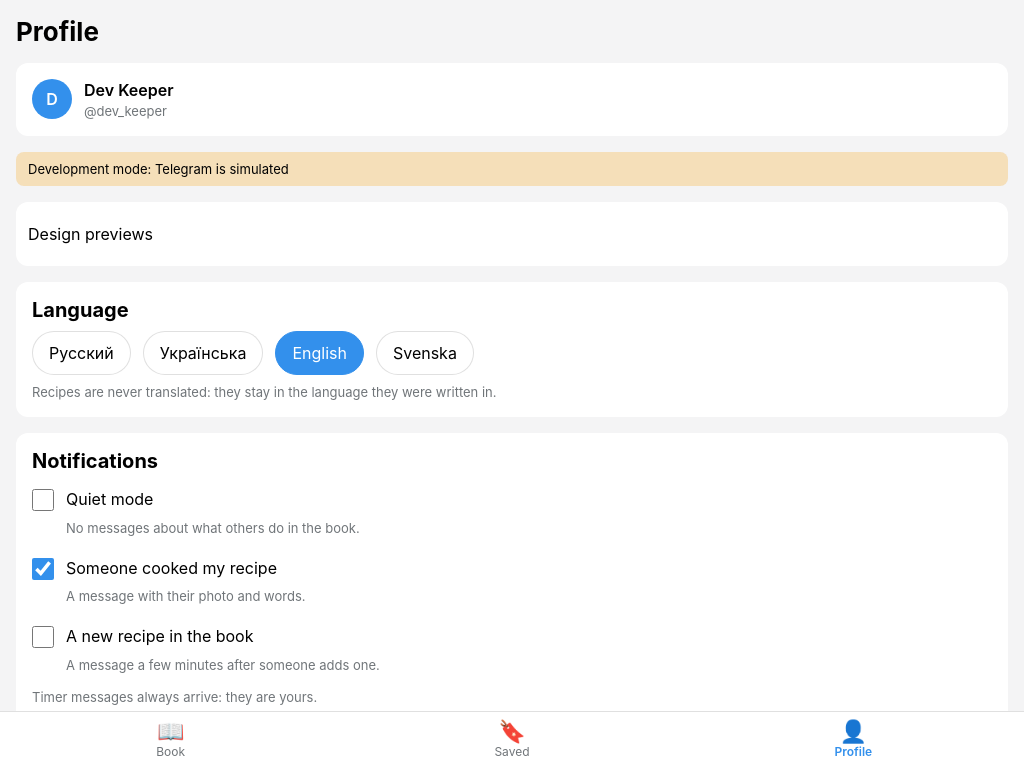
Test: PATCH /me: the interface language is saved to the profile › sends the chosen language; a failure keeps the choice and says so
What coordinates should you click on to do the following:
click the button "Svenska"
I would click on:
 (425, 353)
Its box is [376,331,474,375].
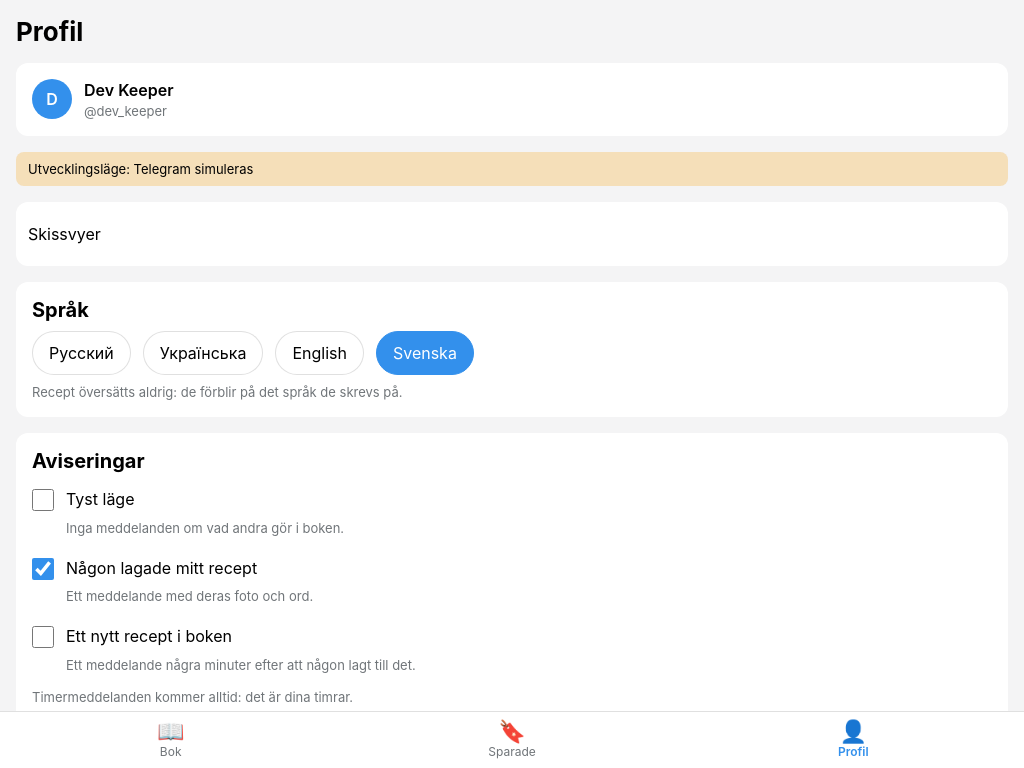
What coordinates should you click on to do the following:
click the button "Українська"
I would click on:
 (203, 353)
Its box is [143,331,263,375].
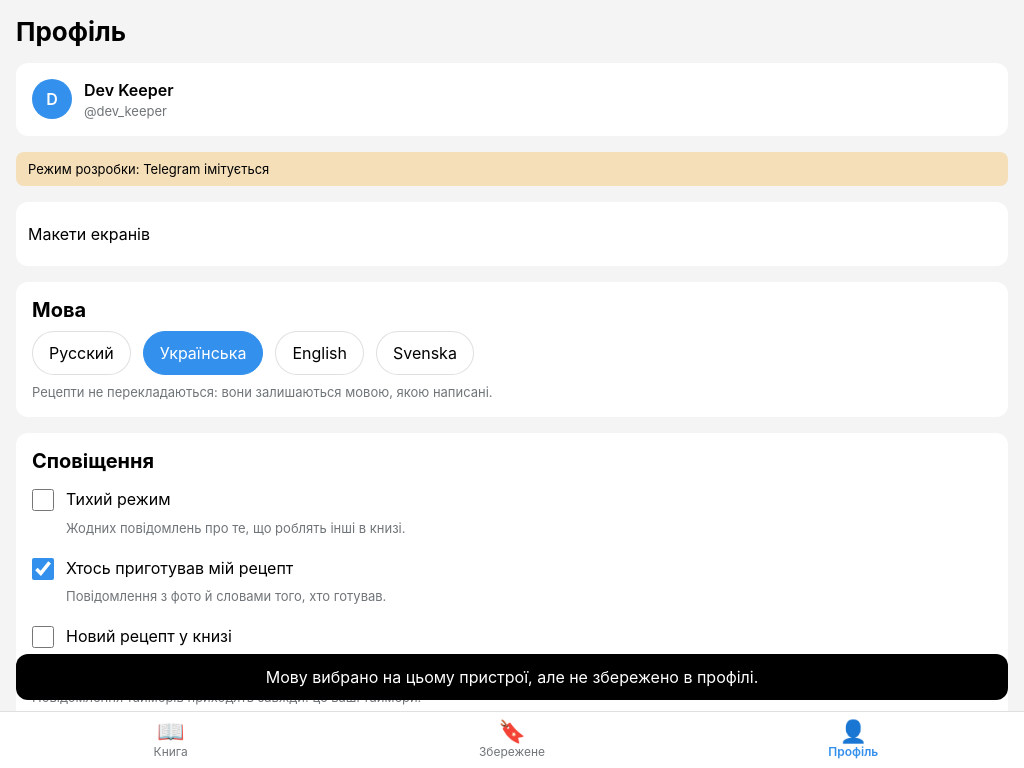
Expected: the text "Мову вибрано на цьому пристрої, але не збережено в профілі." is shown, [16,654,1008,700]
